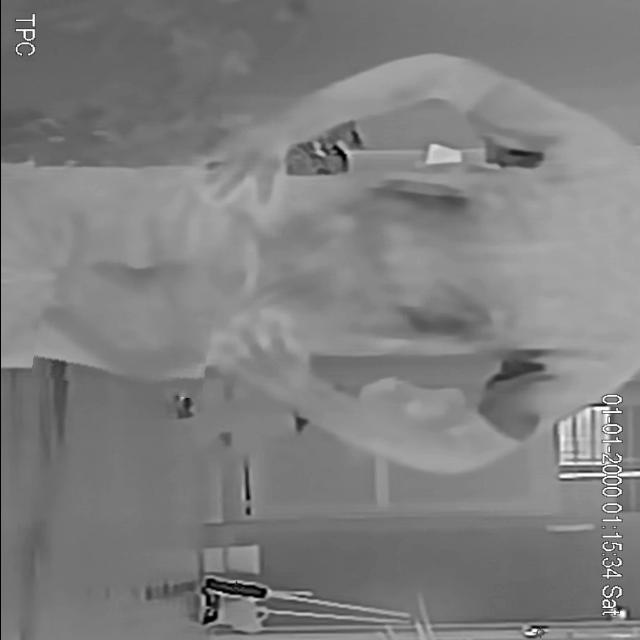Weapon: (32, 306, 208, 394)
